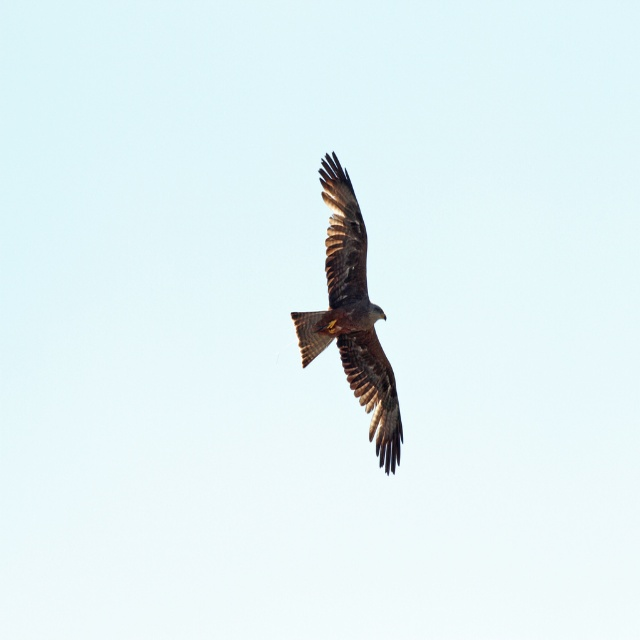Eagle: (289, 145, 406, 472)
